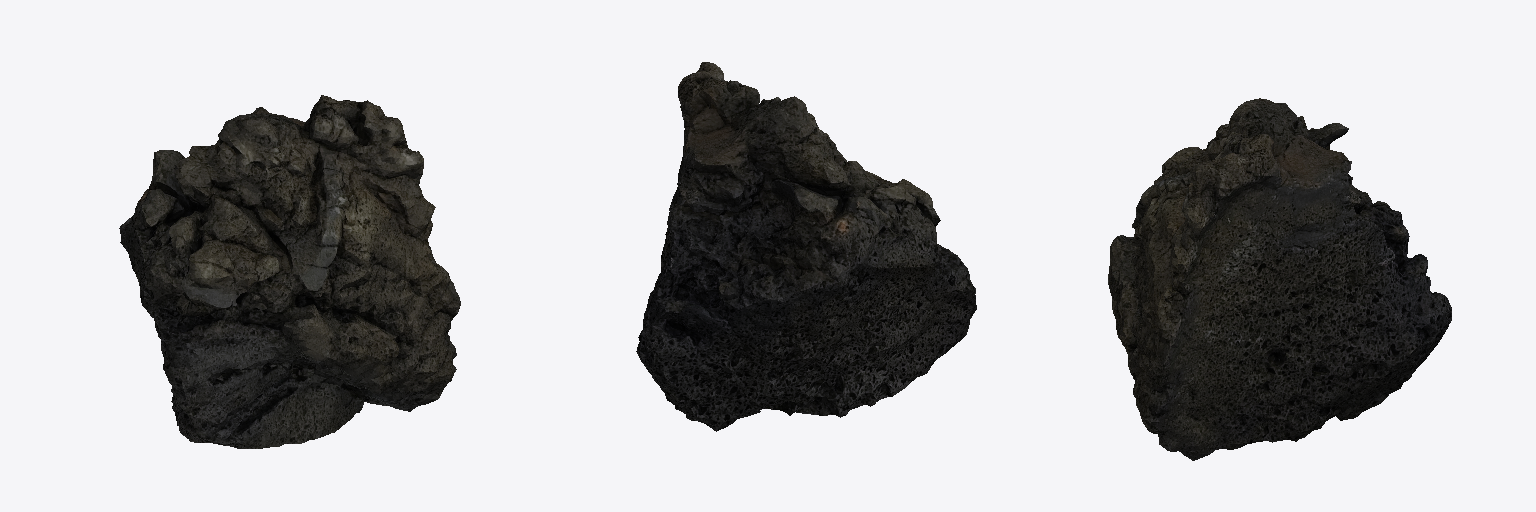
The picture shows the model from 3 angles: view 1: azimuth 30°, elevation 25°; view 2: azimuth 150°, elevation 25°; view 3: azimuth 270°, elevation 25°; orthographic projection.
Parts seen in each view (by area): view 1: 9k; view 2: 9k; view 3: 9k.
Part boxes in pixels (left/top/right/bottom): 9k: left=119, top=95, right=460, bottom=448; 9k: left=636, top=62, right=976, bottom=431; 9k: left=1108, top=98, right=1451, bottom=460.
Size of the model in its own units: 0.7496 by 0.7347 by 0.7583.
1 materials, 1 textured.